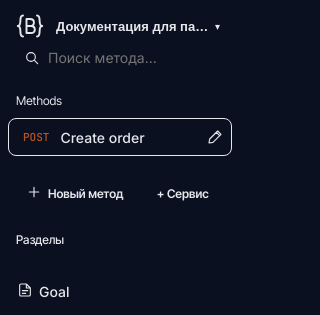
WorkbenchSidebar project switcher › opens project dropdown with counts and without the unsupported folder emoji
Click the button "Документация для партнёров ▾": (138, 26) [52, 12, 224, 40]
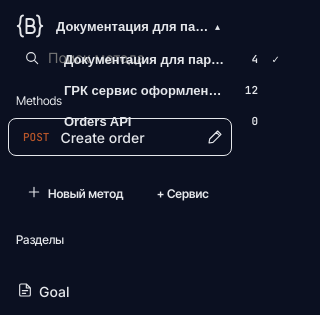
Result: the text "ГРК сервис оформления длинное название" is shown at [64, 82, 228, 98]
Result: the text "4" is shown at [251, 52, 258, 66]
Result: the text "12" is shown at [245, 83, 258, 97]
